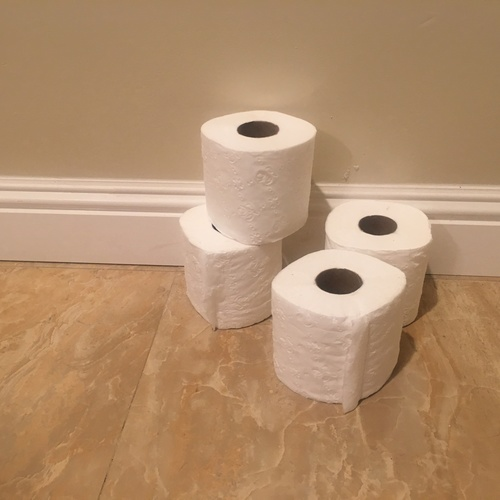roll: (270, 248, 407, 404), (201, 111, 317, 246), (325, 201, 432, 327), (180, 203, 283, 329)
